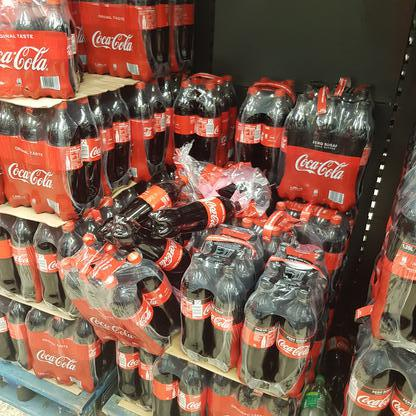coca-cola: (48, 100, 80, 216), (76, 96, 104, 204), (32, 221, 66, 307), (6, 216, 40, 302), (130, 82, 154, 173), (196, 84, 221, 168), (236, 87, 261, 164), (172, 81, 194, 157)
